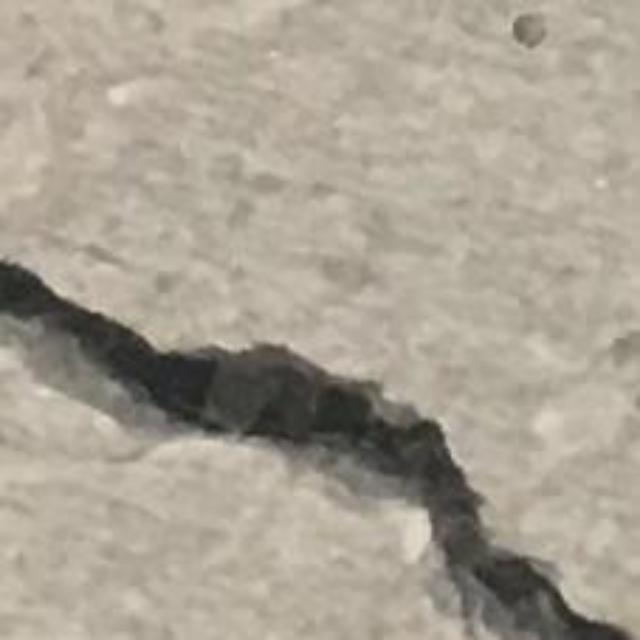crack: (0, 260, 634, 639)
